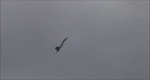maybay_muctieu: (54, 35, 69, 53)
